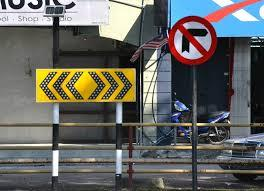no_right_turn: (167, 15, 216, 64)
